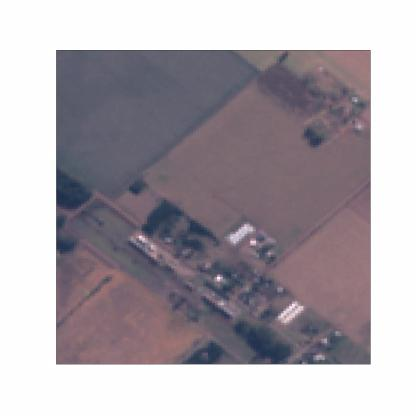silobolsa: (229, 222, 252, 244), (281, 304, 305, 325), (275, 300, 297, 319)
